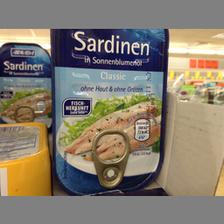fish: (50, 29, 169, 194), (1, 43, 53, 127)
